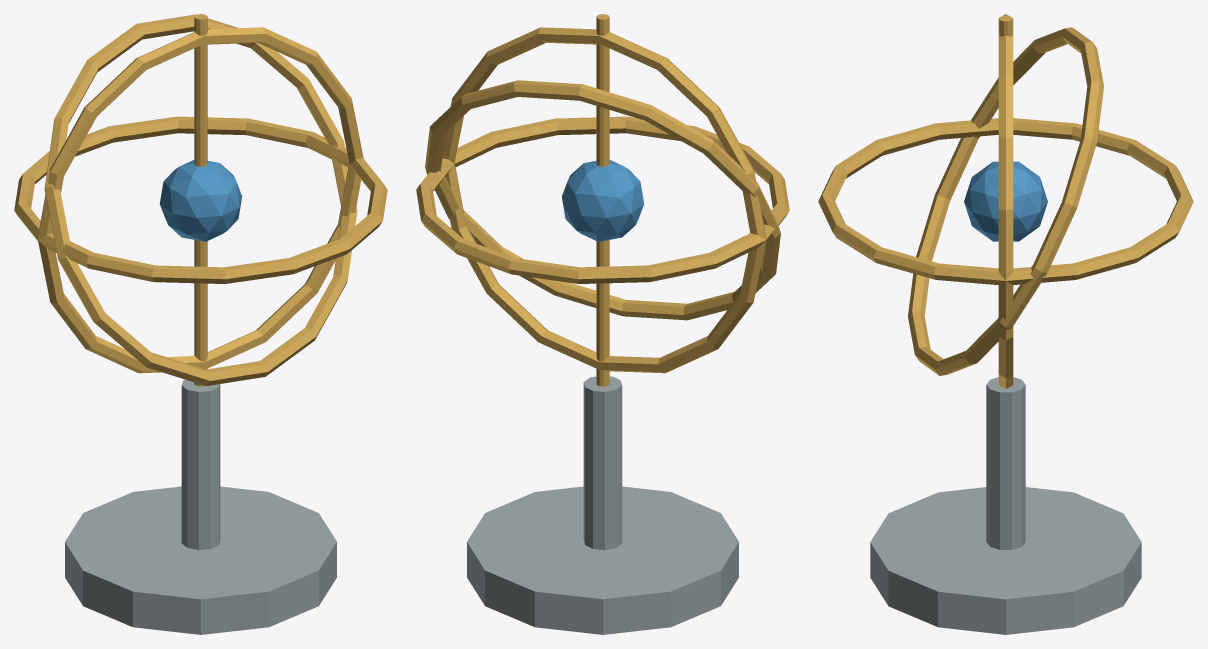
The model's file is Armillary_Sphere.glb.
The picture shows the model from 3 angles, left to right: view 1: azimuth 30°, elevation 25°; view 2: azimuth 150°, elevation 25°; view 3: azimuth 270°, elevation 25°; orthographic projection.
Parts seen in each view (by area): view 1: Armillary_Sphere; view 2: Armillary_Sphere; view 3: Armillary_Sphere.
Part boxes in pixels (x1,y1,x2,y2): Armillary_Sphere: (14,14,387,634); Armillary_Sphere: (416,14,789,634); Armillary_Sphere: (818,14,1193,634).
Size of the model in its own units: 0.67 by 1.1 by 0.67.
